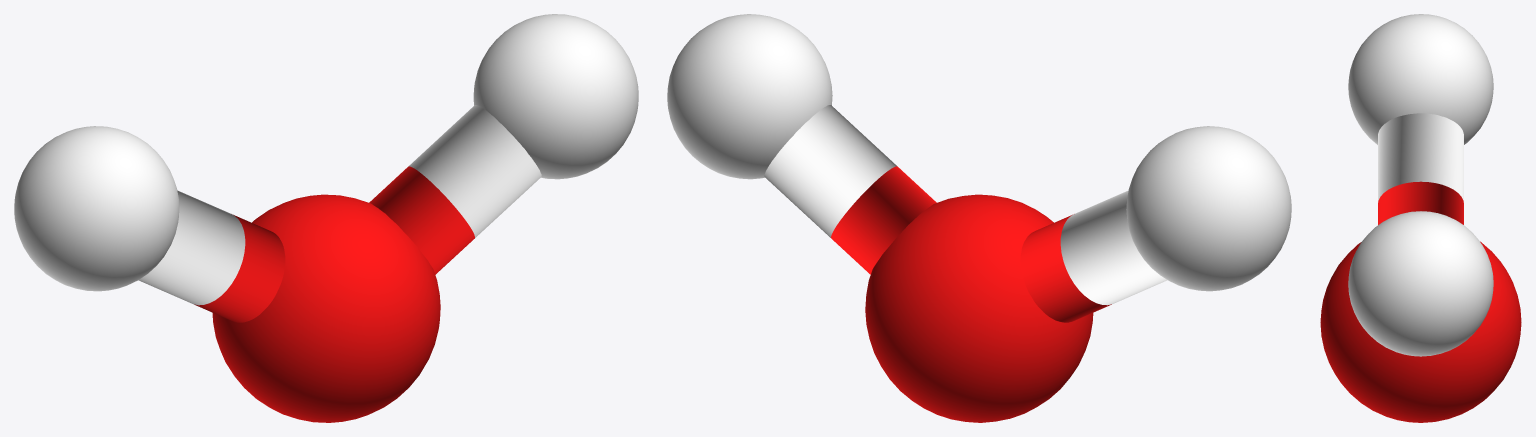
File: water.obj
3 renders of one model, left to right at view 1: azimuth 30°, elevation 25°; view 2: azimuth 150°, elevation 25°; view 3: azimuth 270°, elevation 25°, orthographic. The views are drawn at different scales.
Parts seen in each view (by area): view 1: O1_Atom, H2_Atom, H3_Atom, Cylinder2, Cylinder4, Cylinder1, Cylinder3; view 2: O1_Atom, H2_Atom, H3_Atom, Cylinder2, Cylinder4, Cylinder1, Cylinder3; view 3: H3_Atom, O1_Atom, H2_Atom, Cylinder4, Cylinder3.
Part boxes in pixels (left/top/right/bottom): O1_Atom: left=212, top=194, right=440, bottom=422; H2_Atom: left=14, top=126, right=179, bottom=291; H3_Atom: left=473, top=14, right=638, bottom=179; Cylinder2: left=408, top=105, right=541, bottom=237; Cylinder4: left=138, top=190, right=245, bottom=305; Cylinder1: left=369, top=166, right=474, bottom=274; Cylinder3: left=194, top=214, right=285, bottom=322; O1_Atom: left=865, top=194, right=1093, bottom=422; H2_Atom: left=1126, top=126, right=1291, bottom=291; H3_Atom: left=667, top=14, right=832, bottom=179; Cylinder2: left=764, top=105, right=897, bottom=237; Cylinder4: left=1060, top=190, right=1167, bottom=305; Cylinder1: left=831, top=166, right=936, bottom=274; Cylinder3: left=1020, top=214, right=1111, bottom=322; H3_Atom: left=1348, top=211, right=1493, bottom=356; O1_Atom: left=1320, top=241, right=1521, bottom=422; H2_Atom: left=1348, top=14, right=1493, bottom=144; Cylinder4: left=1378, top=113, right=1463, bottom=202; Cylinder3: left=1378, top=181, right=1463, bottom=224.
Bounding box in the file's own units: 2.13 × 1.13 × 0.699.
